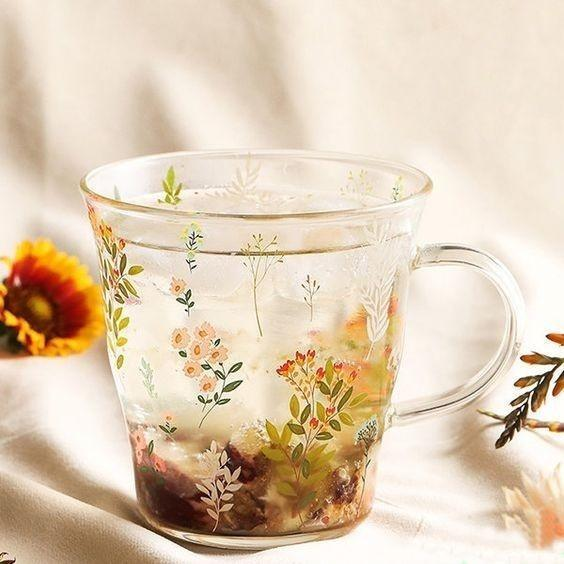glass-mug: (80, 142, 538, 551)
